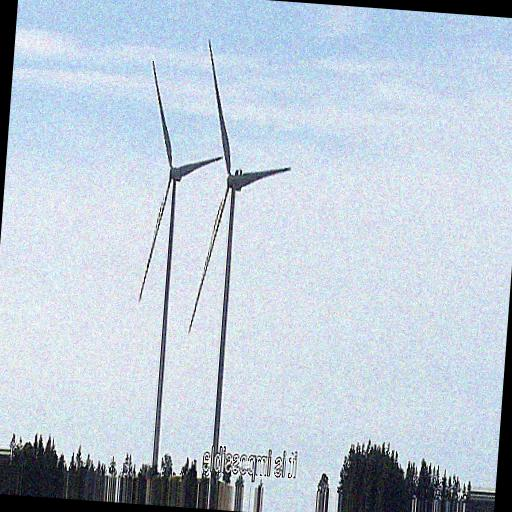wind turbine: (189, 41, 291, 447), (137, 58, 222, 480)
